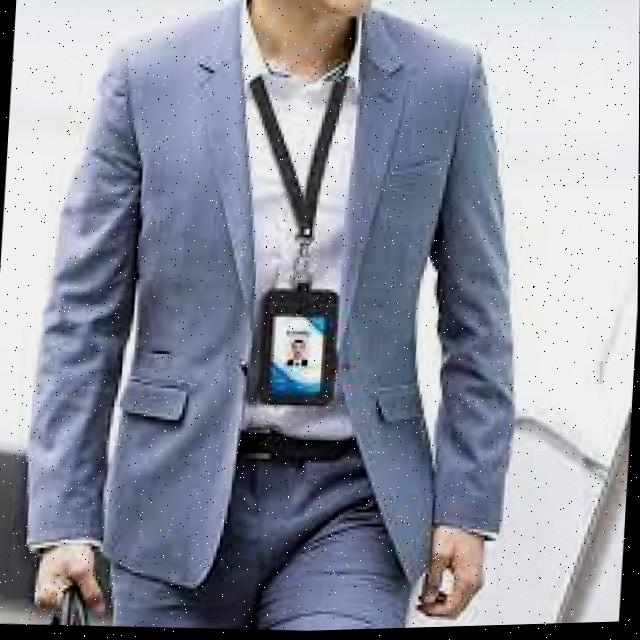id_card: (217, 53, 369, 413)
